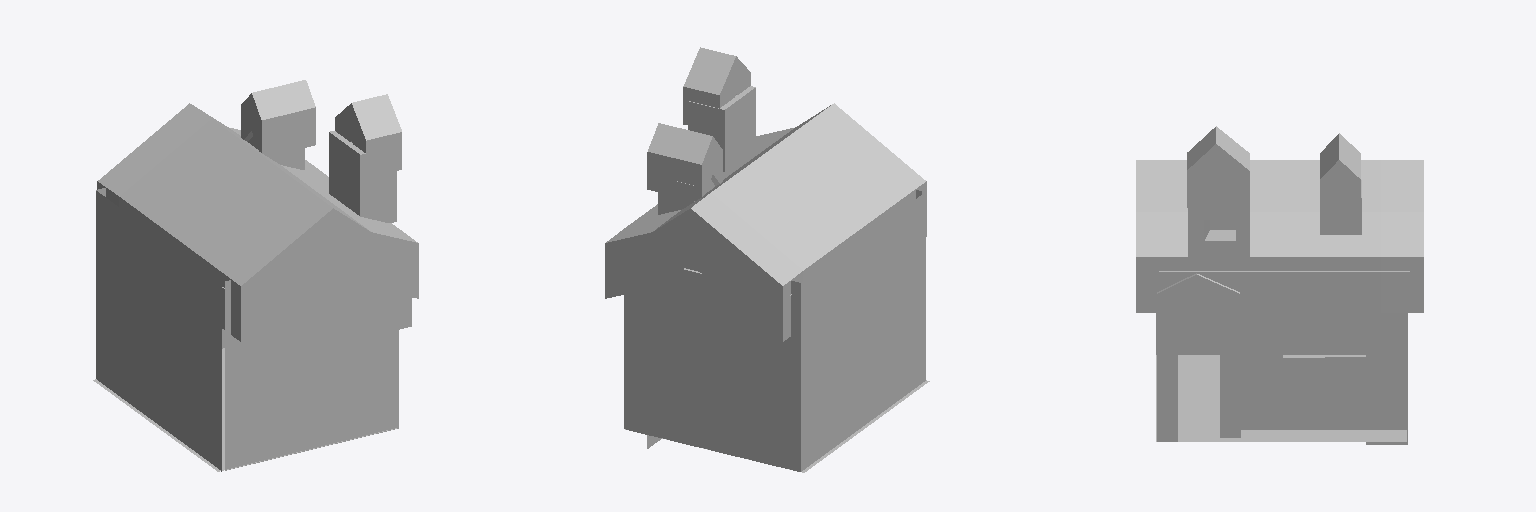
File: casa.obj
The picture shows the model from 3 angles: view 1: azimuth 30°, elevation 25°; view 2: azimuth 150°, elevation 25°; view 3: azimuth 270°, elevation 25°; orthographic projection.
Visible parts, largest first — view 1: Cube_Cube.010, Plane.002, Plane.001, Cube.004_Cube.014, Cube.001_Cube.011, Cube.002_Cube.012, Plane, Cube.005_Cube.015, Cube.003_Cube.013; view 2: Cube_Cube.010, Plane.003, Plane.001, Cube.004_Cube.014, Cube.001_Cube.011, Cube.002_Cube.012, Cube.003_Cube.013; view 3: Cube_Cube.010, Plane, Plane.005, Plane.009, Cube.005_Cube.015, Plane.001, Cube.001_Cube.011, Cube.002_Cube.012, Plane.008, Plane.006, Cube.004_Cube.014, Plane.012 (+2 smaller).
Boxes of the visible parts, x1,y1,x2,y2 form: Cube_Cube.010: [97, 103, 418, 341]; Plane.002: [225, 264, 398, 470]; Plane.001: [96, 191, 221, 471]; Cube.004_Cube.014: [241, 80, 315, 156]; Cube.001_Cube.011: [329, 131, 396, 222]; Cube.002_Cube.012: [335, 94, 401, 178]; Plane: [93, 348, 396, 471]; Cube.005_Cube.015: [393, 293, 411, 330]; Cube.003_Cube.013: [248, 135, 304, 169]; Cube_Cube.010: [605, 103, 926, 341]; Plane.003: [624, 264, 800, 471]; Plane.001: [801, 192, 925, 471]; Cube.004_Cube.014: [647, 123, 722, 200]; Cube.001_Cube.011: [688, 86, 755, 171]; Cube.002_Cube.012: [683, 47, 750, 124]; Cube.003_Cube.013: [658, 177, 714, 214]; Cube_Cube.010: [1136, 160, 1423, 312]; Plane: [1156, 355, 1406, 441]; Plane.005: [1366, 313, 1407, 444]; Plane.009: [1241, 313, 1282, 429]; Cube.005_Cube.015: [1157, 273, 1239, 349]; Plane.001: [1156, 313, 1365, 354]; Cube.001_Cube.011: [1188, 182, 1249, 256]; Cube.002_Cube.012: [1187, 126, 1249, 208]; Plane.008: [1283, 358, 1324, 429]; Plane.006: [1325, 357, 1365, 429]; Cube.004_Cube.014: [1320, 133, 1360, 216]; Plane.012: [1157, 340, 1177, 441].
Bounding box in the file's own units: 11.02 × 16.99 × 13.72.